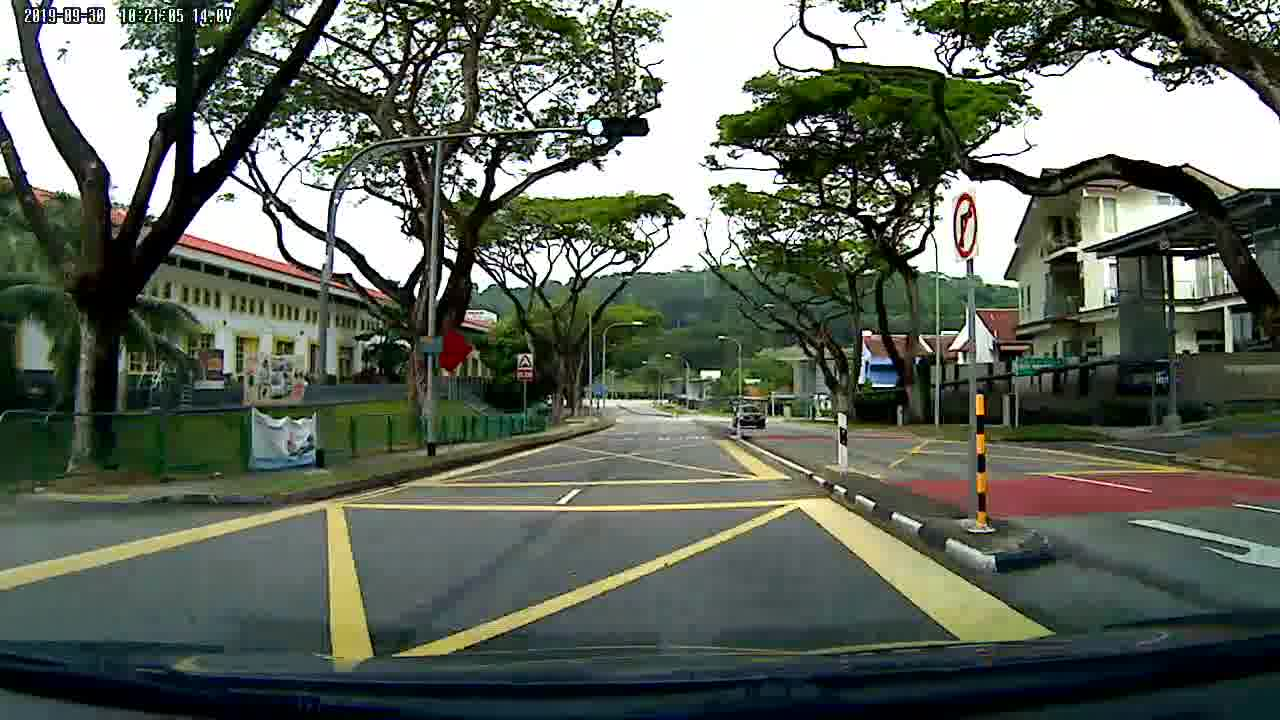car: (729, 401, 766, 429)
